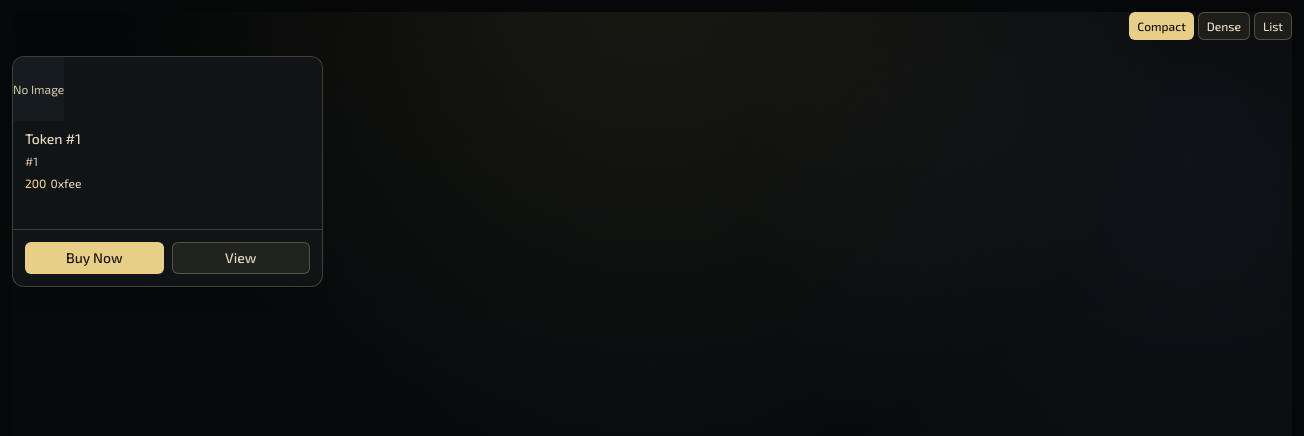
Test case: collection token grid › list_view_renders_tokens_in_a_table_layout
The image size is (1304, 436).
Click the button "List". click: (1273, 26)
box: [1254,12,1292,40]
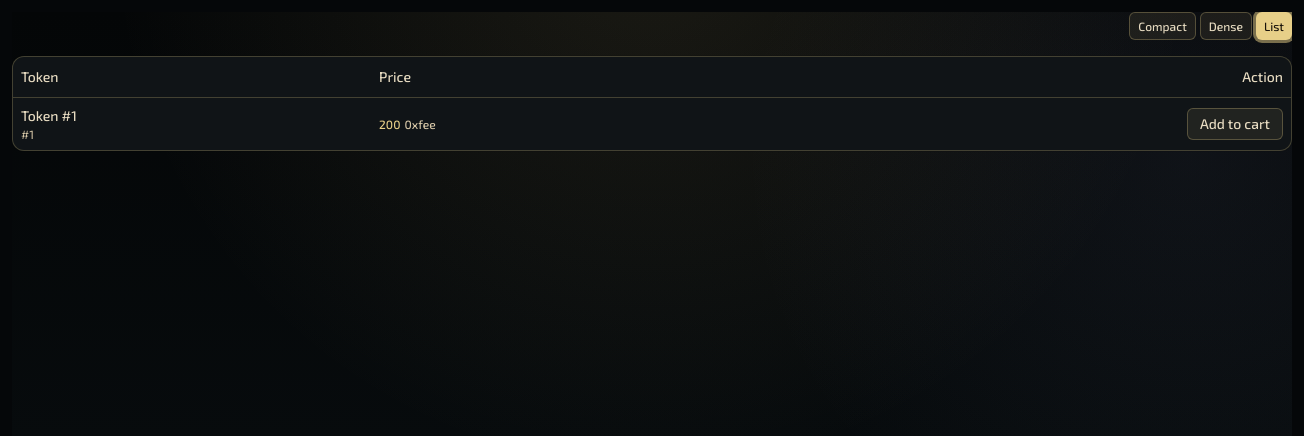
Expected: the text "200" is shown, [379,116,400,130]
Now the table with test id "collection-token-grid-table" is shown, box [13,57,1291,150]
Now the element with test id "collection-token-grid-cards" is gone
